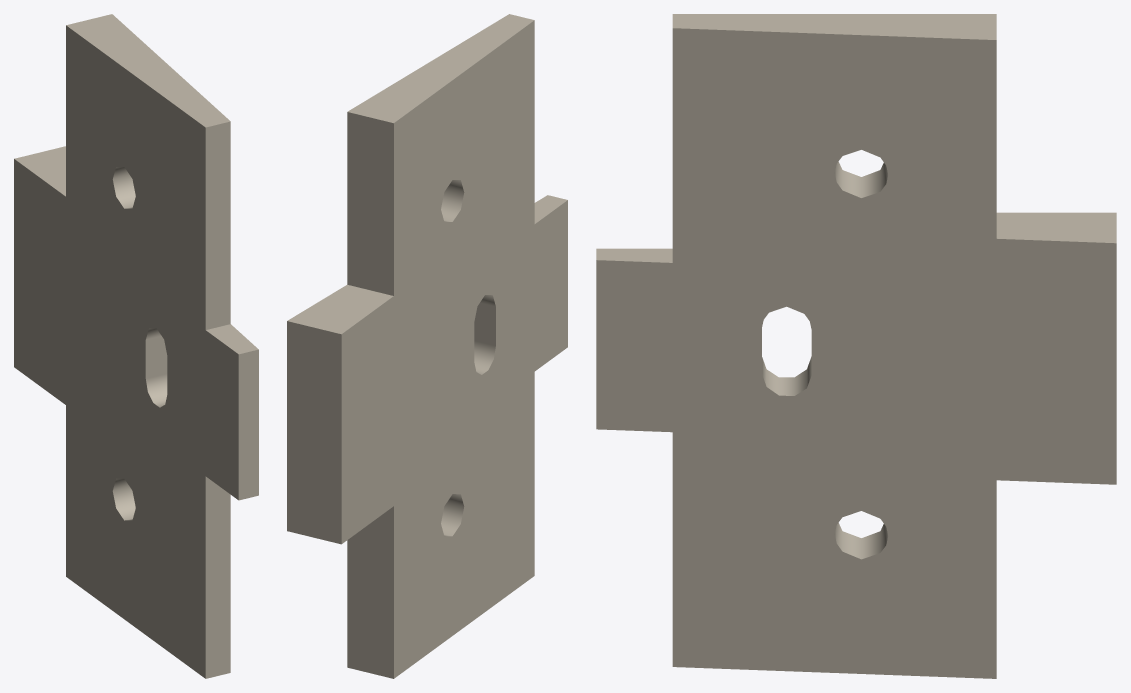
3 renders of one model, left to right at view 1: azimuth 30°, elevation 25°; view 2: azimuth 150°, elevation 25°; view 3: azimuth 270°, elevation 25°, orthographic. The views are drawn at different scales.
Parts seen in each view (by area): view 1: bau0006168120; view 2: bau0006168120; view 3: bau0006168120.
Boxes of the visible parts, <box> form: bau0006168120: <box>14,14,258,678</box>; bau0006168120: <box>287,14,567,678</box>; bau0006168120: <box>596,14,1116,678</box>.
Bounding box in the file's own units: 5.82 × 56.6 × 41.8.
